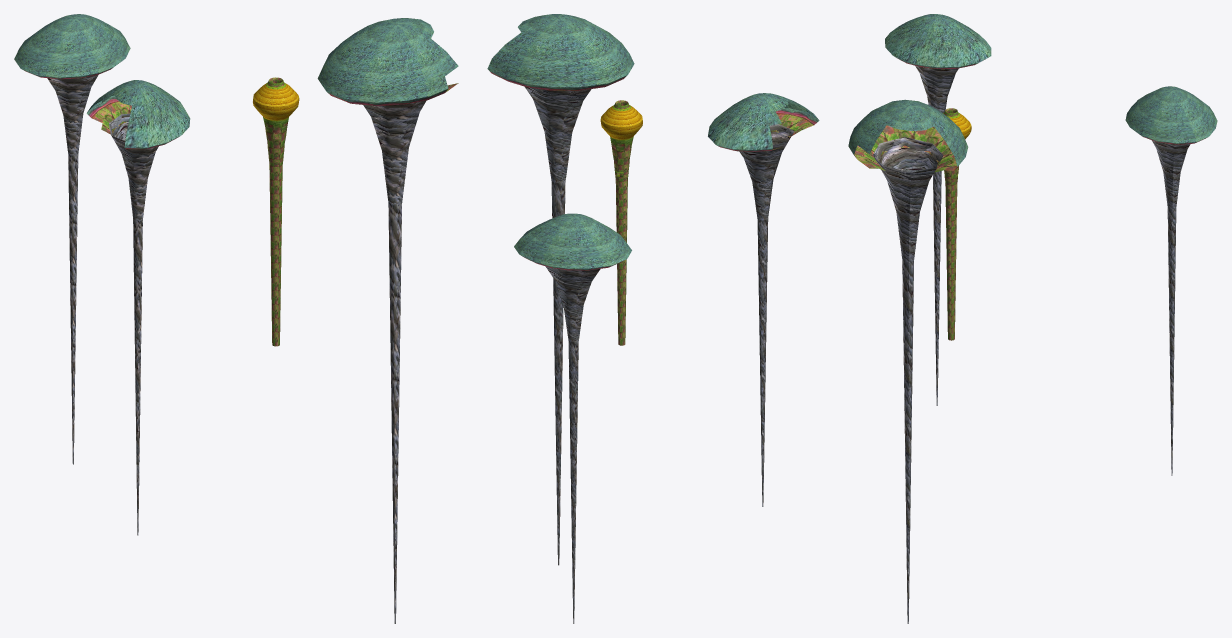
File: Frog Forest 15.fbx
3 renders of one model, left to right at view 1: azimuth 30°, elevation 25°; view 2: azimuth 150°, elevation 25°; view 3: azimuth 270°, elevation 25°, orthographic. The views are drawn at different scales.
Parts seen in each view (by area): view 1: Frog Forest 15; view 2: Frog Forest 15; view 3: Frog Forest 15.
Boxes of the visible parts, x1=… form: Frog Forest 15: x1=14, y1=14, x2=458, y2=623; Frog Forest 15: x1=487, y1=14, x2=819, y2=623; Frog Forest 15: x1=848, y1=14, x2=1217, y2=623.
Size of the model in its own units: 733231 by 1281134 by 827879.
